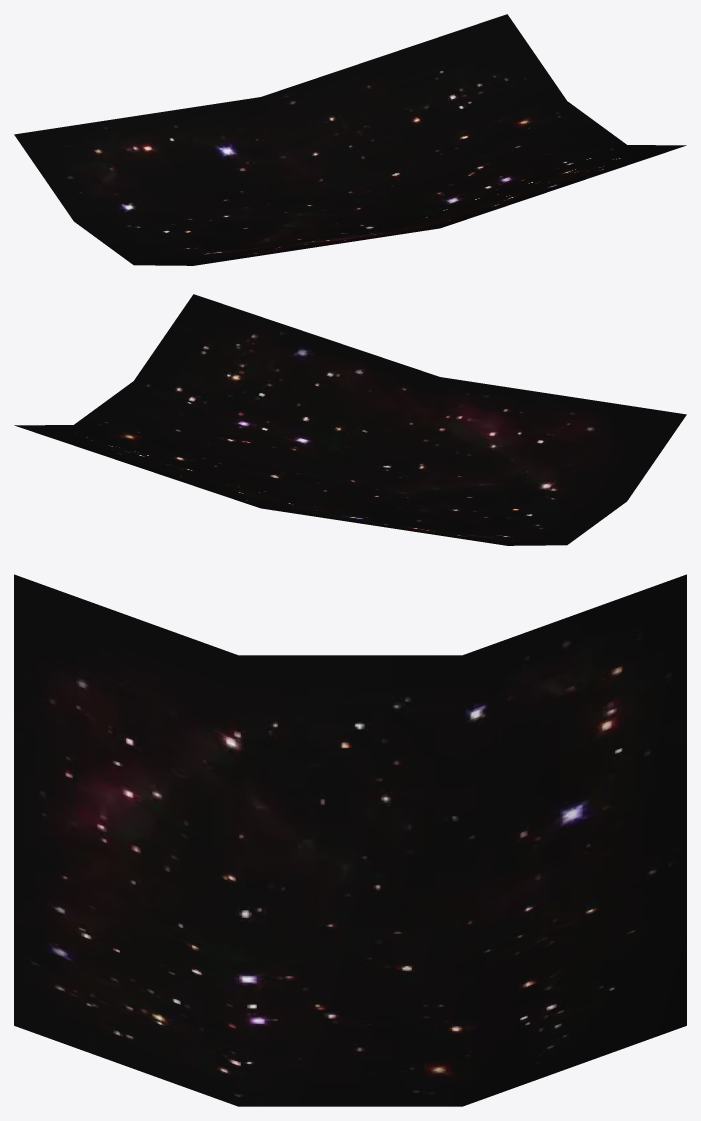
3 renders of one model, top to bottom at view 1: azimuth 30°, elevation 25°; view 2: azimuth 150°, elevation 25°; view 3: azimuth 270°, elevation 25°, orthographic. The views are drawn at different scales.
Parts seen in each view (by area): view 1: model_Object22; view 2: model_Object22; view 3: model_Object22.
Part boxes in pixels (x1,y1,x2,y2): model_Object22: (14,14,686,265); model_Object22: (14,294,686,545); model_Object22: (14,574,686,1106).
Size of the model in its own units: 2.39 by 0.3054 by 1.51.
1 material, 1 textured.
